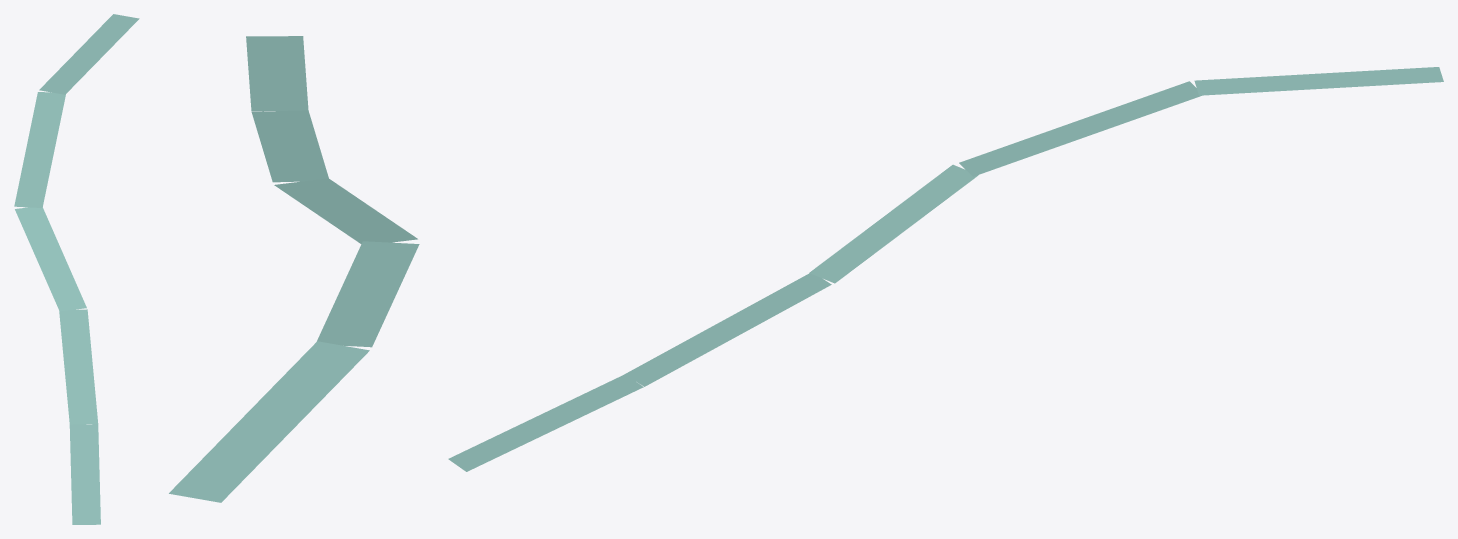
The model's file is SM_Stream.fbx.
3 renders of one model, left to right at view 1: azimuth 30°, elevation 25°; view 2: azimuth 210°, elevation 25°; view 3: azimuth 330°, elevation 25°, orthographic. The views are drawn at different scales.
Visible parts, largest first — view 1: SM_Stream; view 2: SM_Stream; view 3: SM_Stream.
Part boxes in pixels (x1,y1,x2,y2): SM_Stream: (14,14,139,524); SM_Stream: (169,36,419,502); SM_Stream: (448,67,1443,471).
Bounding box in the file's own units: 1243 × 1906 × 386.
